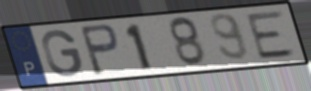1: (124, 22, 154, 72)
8: (167, 16, 207, 70)
9: (211, 12, 252, 66)
E: (244, 9, 299, 61)
G: (40, 28, 85, 79)
P: (77, 22, 121, 77)
